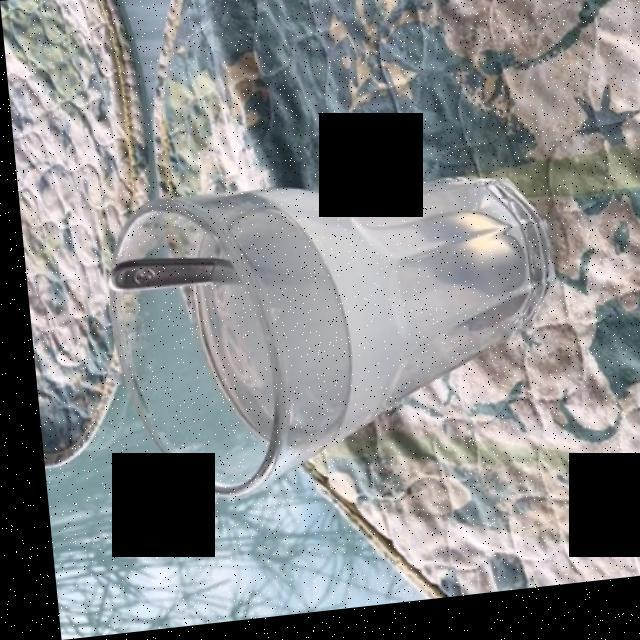drink: (190, 203, 341, 449)
